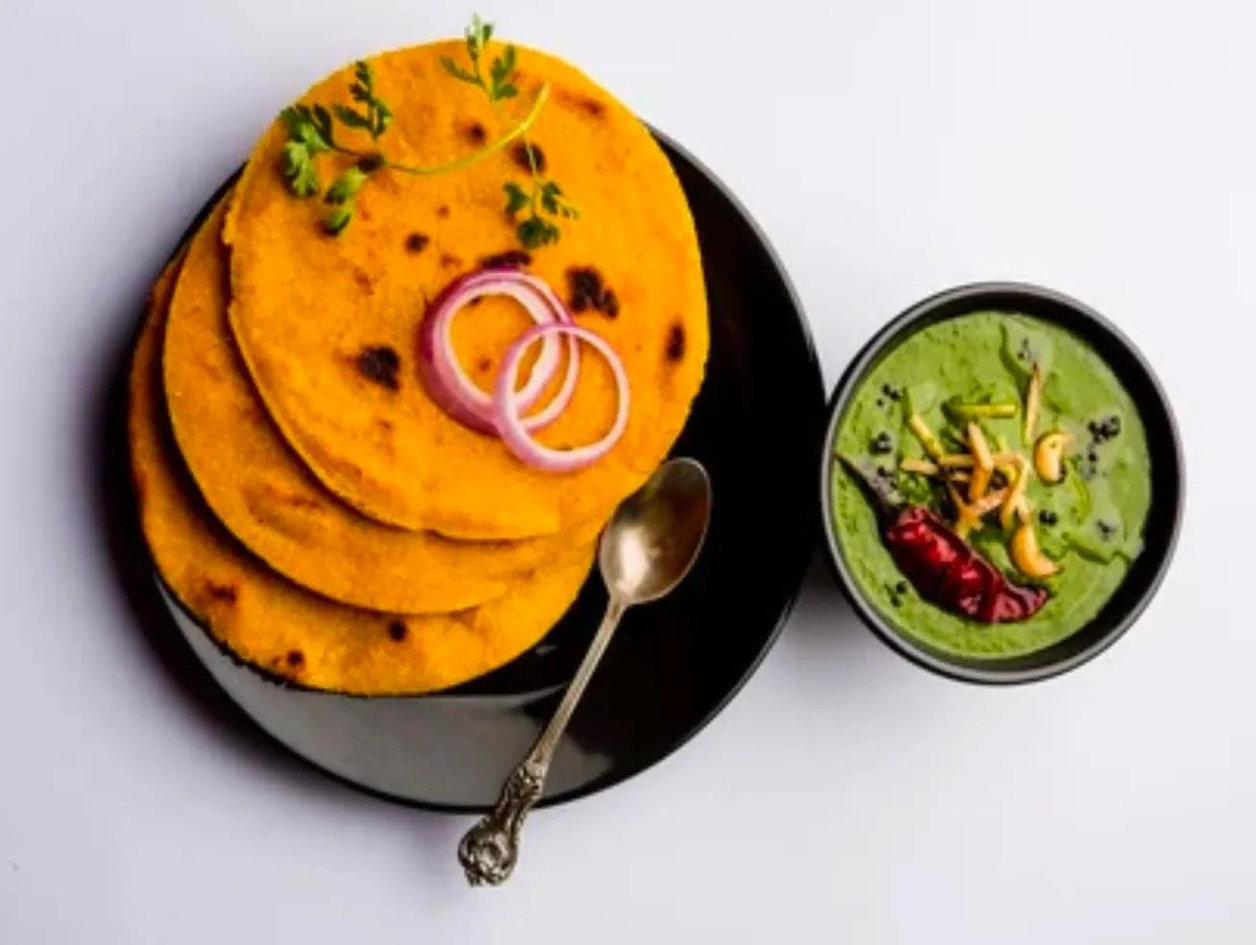saag: (832, 315, 1149, 669)
